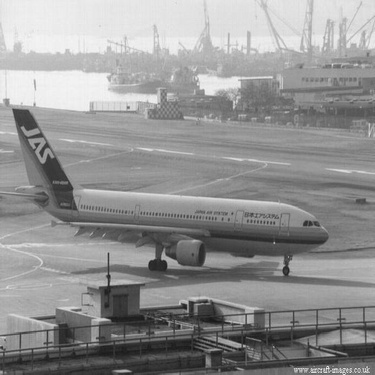airplane: (3, 86, 340, 273)
